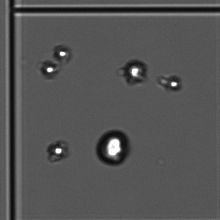Living Cell: (93, 124, 133, 167), (122, 55, 146, 86), (162, 68, 187, 94), (37, 56, 57, 83), (44, 139, 69, 160), (53, 42, 73, 64)
